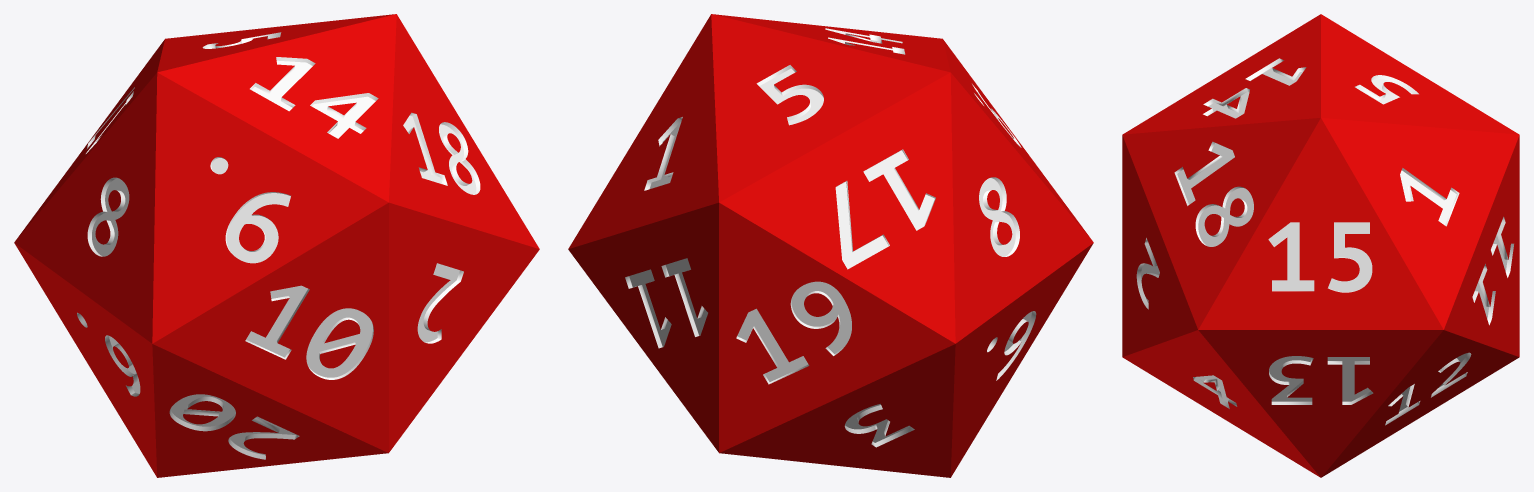
The picture shows the model from 3 angles, left to right: view 1: azimuth 30°, elevation 25°; view 2: azimuth 150°, elevation 25°; view 3: azimuth 270°, elevation 25°; orthographic projection. The views are drawn at different scales.
Parts seen in each view (by area): view 1: d20.001; view 2: d20.001; view 3: d20.001.
Part boxes in pixels (x1=…): d20.001: x1=14, y1=14, x2=539, y2=477; d20.001: x1=568, y1=14, x2=1093, y2=477; d20.001: x1=1122, y1=14, x2=1519, y2=477.
Bounding box in the file's own units: 1.7 × 1.7 × 1.7.
